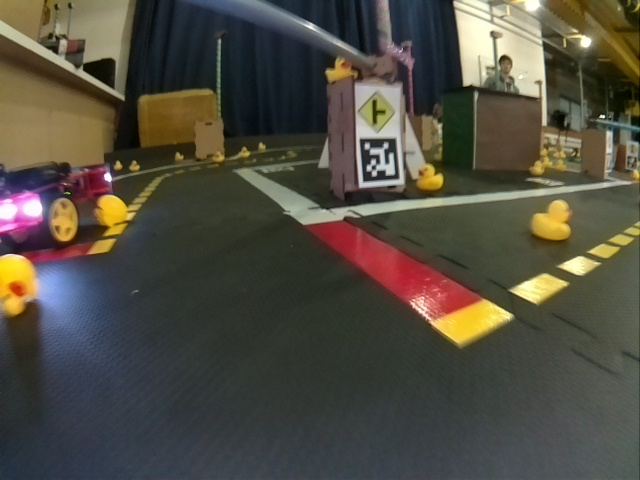Duckie: (2, 253, 38, 316), (530, 199, 572, 240), (94, 196, 127, 226), (325, 56, 358, 80), (417, 165, 444, 190), (531, 162, 543, 175), (212, 152, 221, 162), (257, 142, 266, 151), (112, 161, 121, 170), (129, 161, 137, 171), (174, 152, 182, 162), (240, 147, 248, 155)
Duckiebot: (3, 162, 111, 250)
Intersection sign: (356, 87, 398, 133)
QR code: (358, 137, 399, 182)
